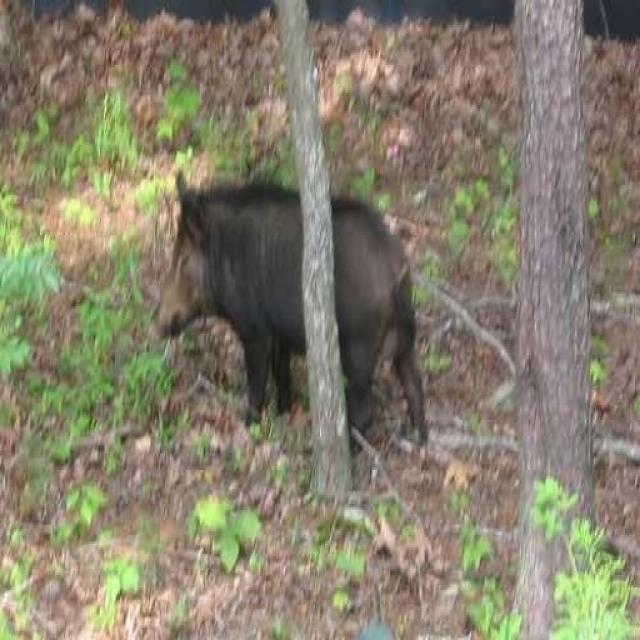pig: (136, 88, 436, 466)
